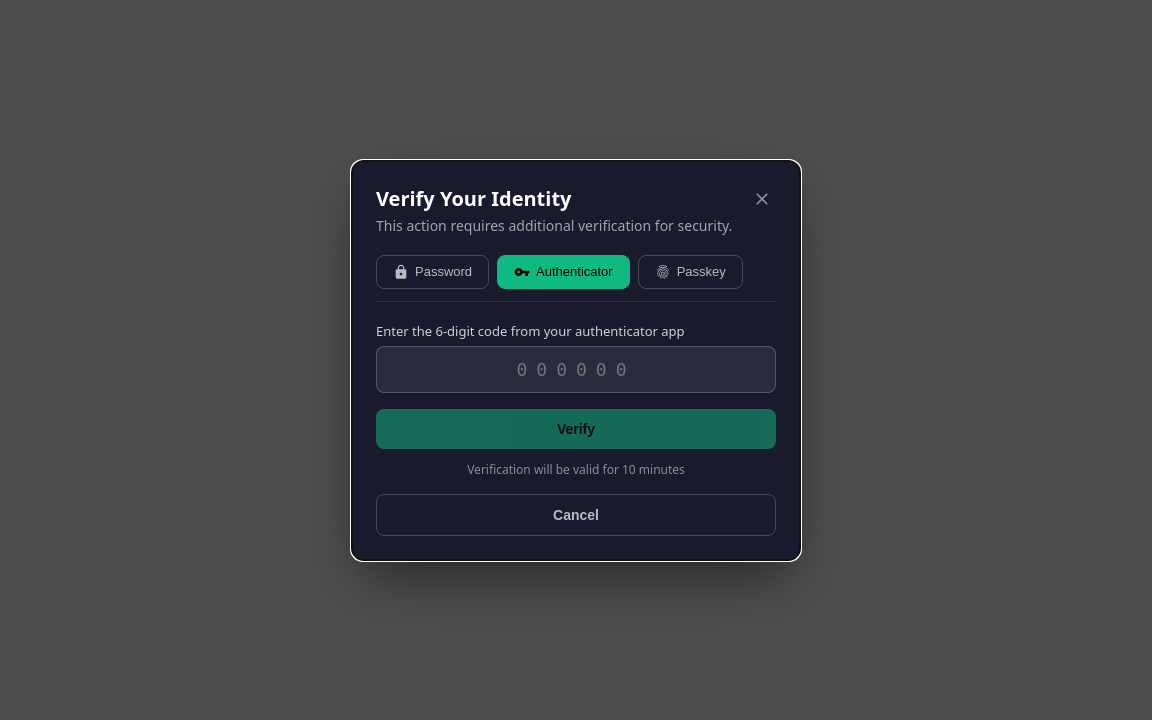
Test: ReverificationModal › MFA form › should only allow 6 digits in MFA input
In the field named "MFA code": (576, 369) top-left (376, 346), bottom-right (776, 392), type "123456789"
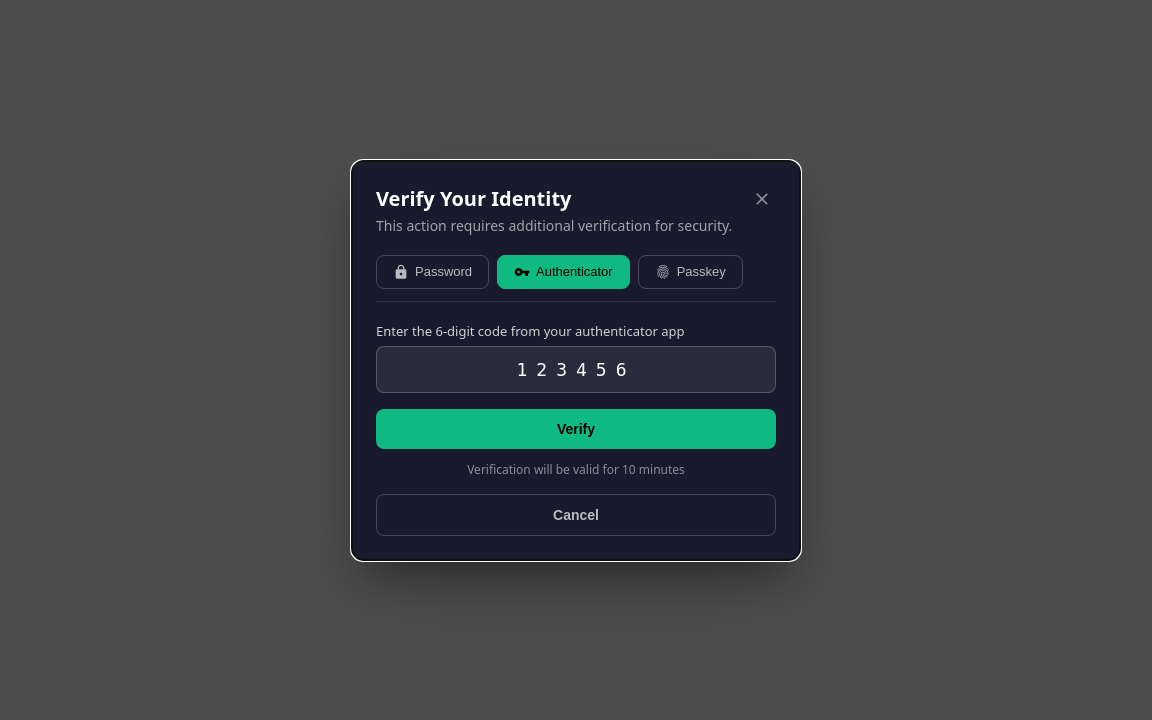
expect the field named "MFA code" holds "123456": met, box top-left (376, 346), bottom-right (776, 392)
